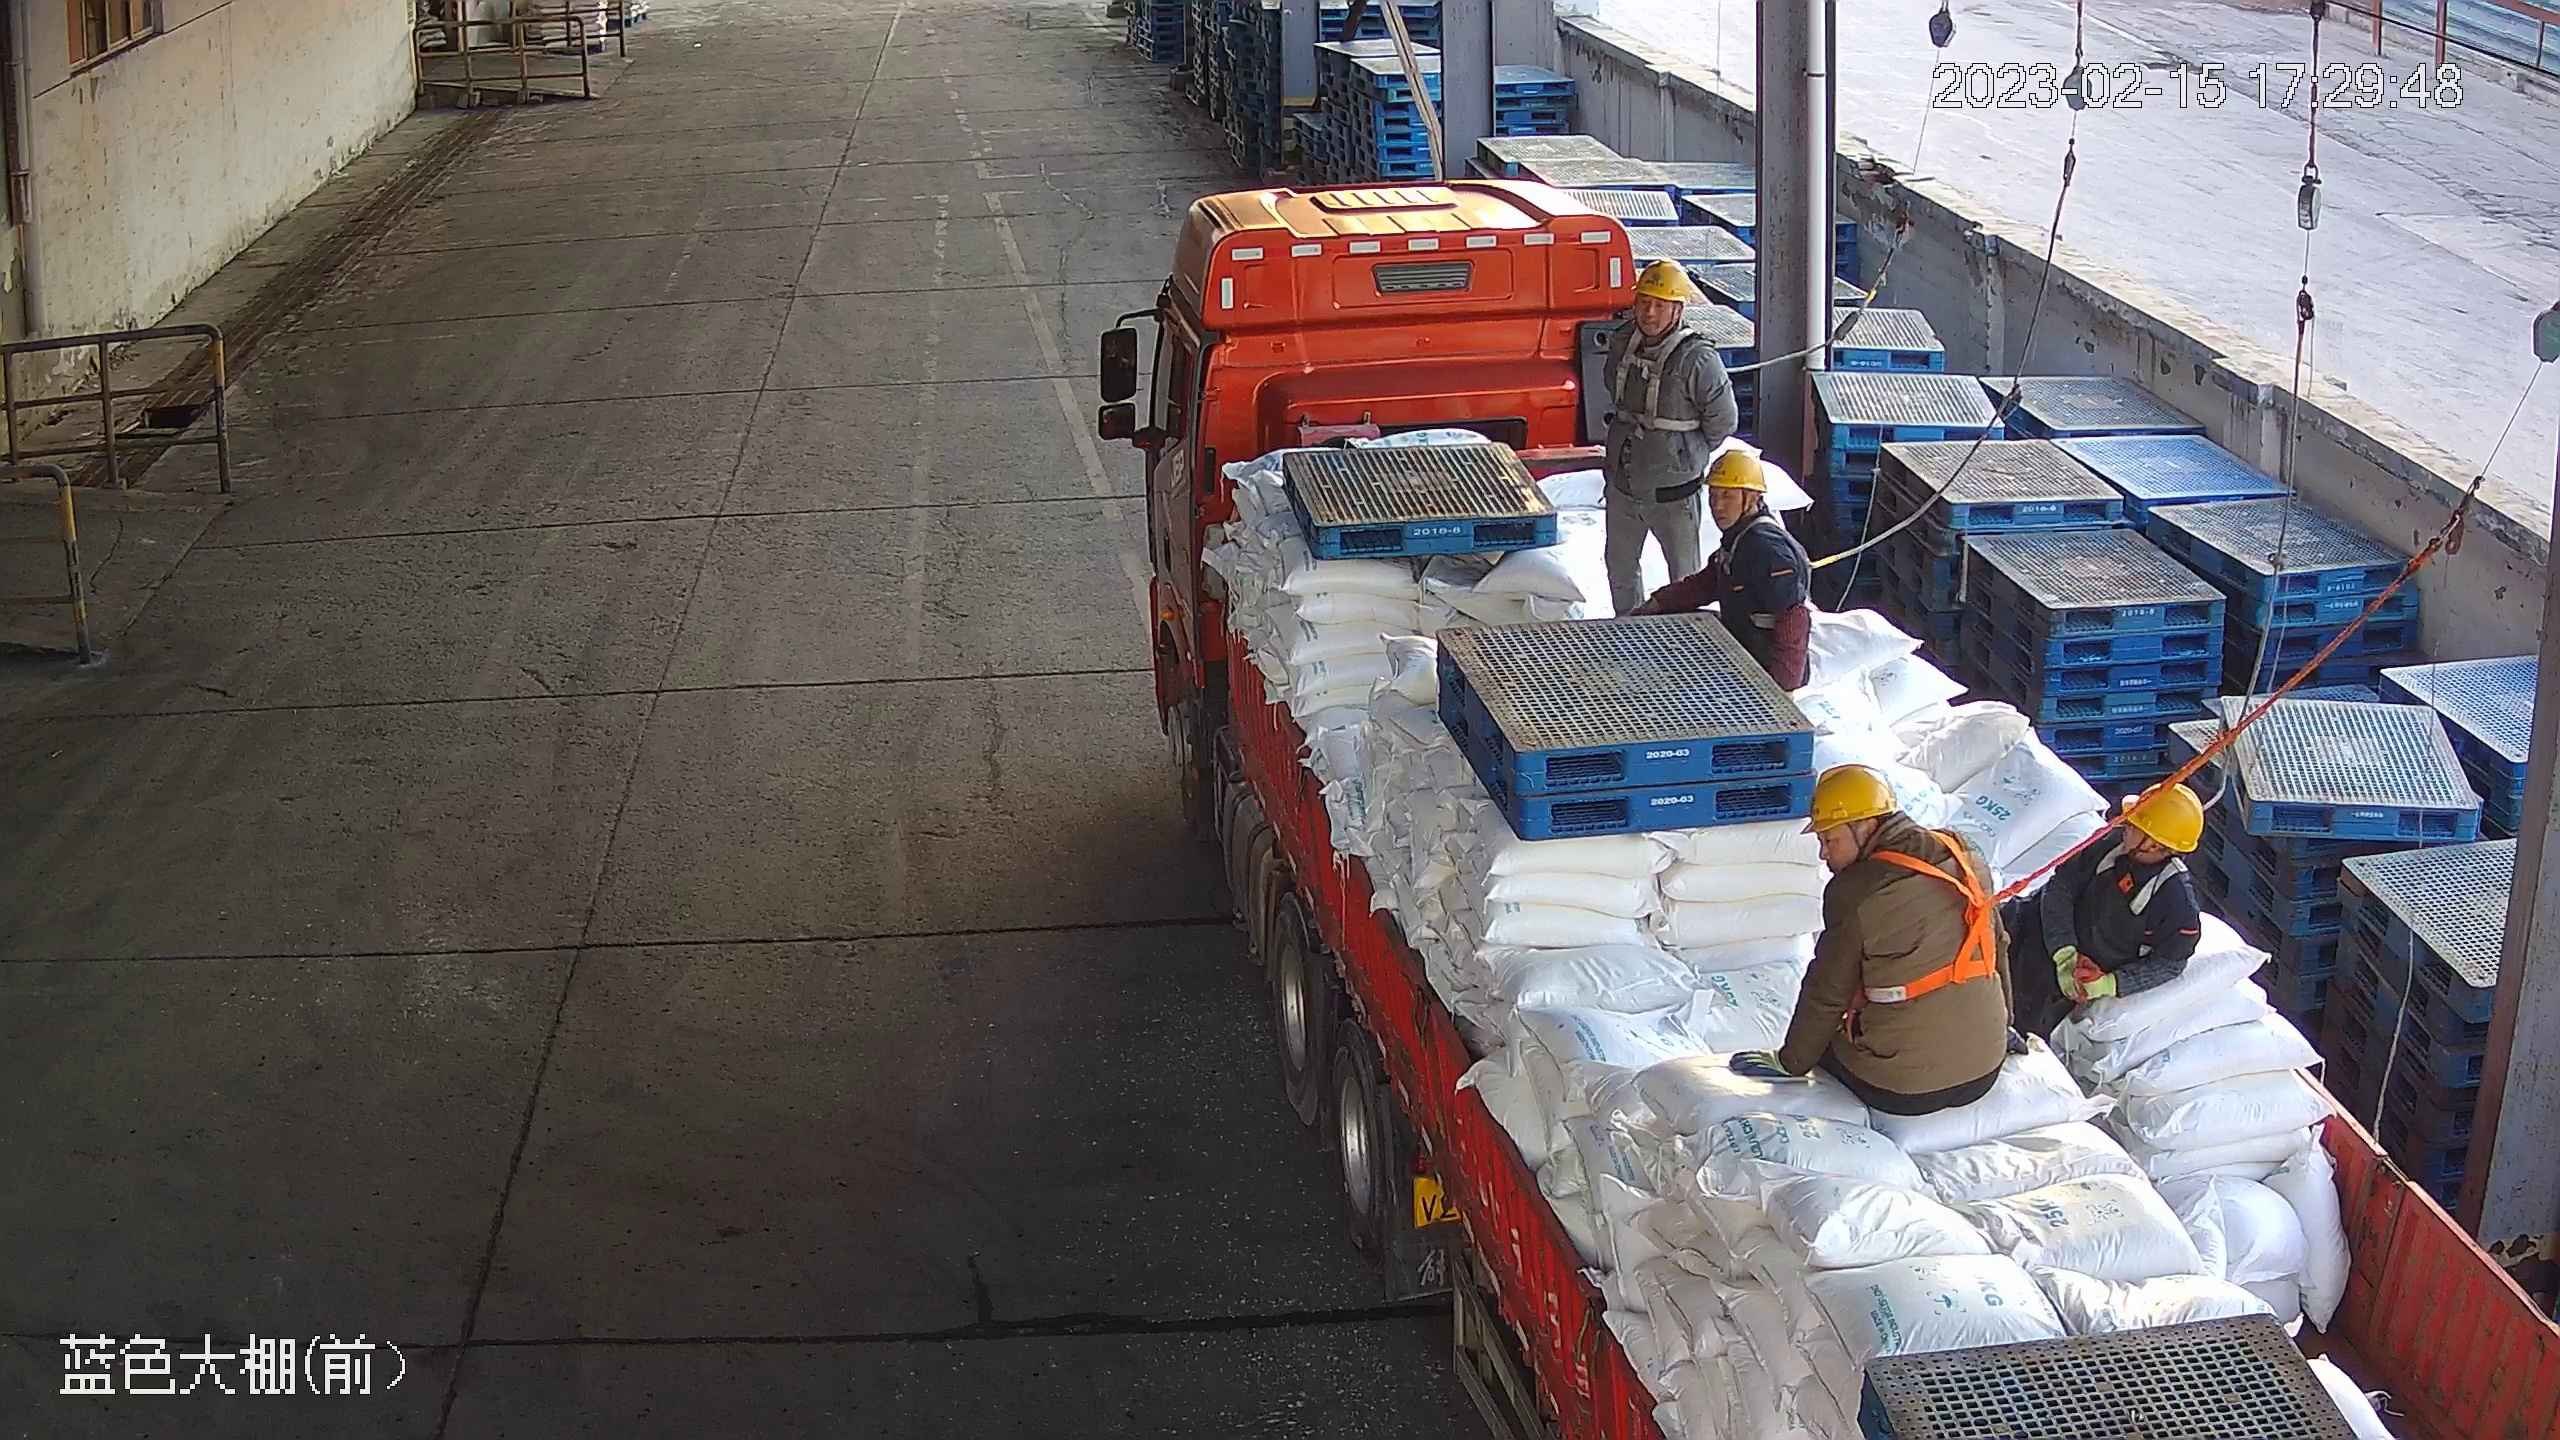belt: (1861, 825, 2037, 1005), (1602, 318, 1743, 434), (1712, 515, 1837, 609), (2087, 835, 2198, 916)
head: (1796, 762, 2009, 907), (2059, 776, 2215, 930), (1593, 256, 1725, 365), (1694, 448, 1812, 568)
helmet: (1799, 762, 1900, 838), (2120, 780, 2204, 859), (1699, 448, 1771, 497), (1631, 256, 1692, 306)
people: (1725, 760, 2031, 1120), (1995, 779, 2206, 1051), (1596, 257, 1741, 622), (1630, 450, 1817, 708)
truck: (1140, 175, 2560, 1440)
